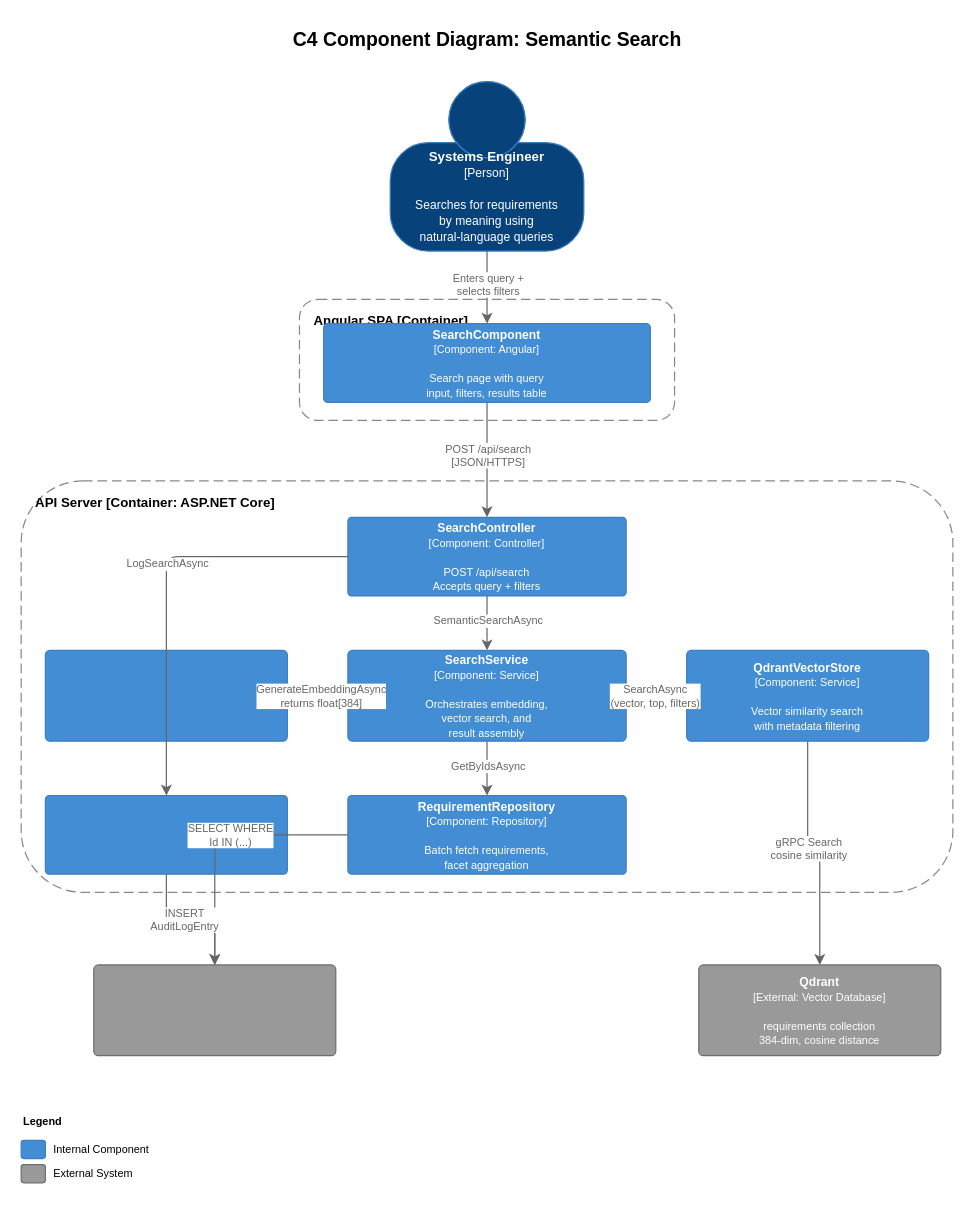
Image size: 974x1206. Some labels were removed from this diagram. Each missing label, with the centre of its shape:
AuditService [Component: Service] Logs search queries for audit trail: (x=165, y=834)
OnnxEmbeddingService [Component: Singleton] all-MiniLM-L6-v2 384-dim embeddings: (x=165, y=695)
SQLite [External: Database] Requirements, AuditLogEntry tables: (x=214, y=1010)
